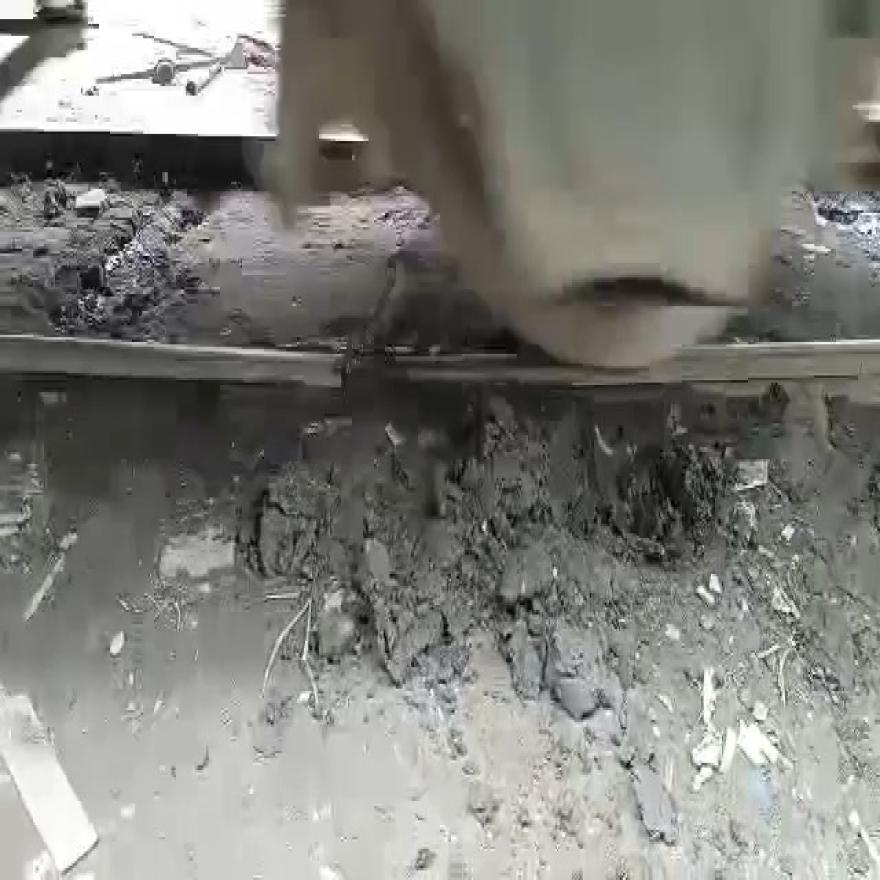railway-gap: (304, 306, 382, 433)
